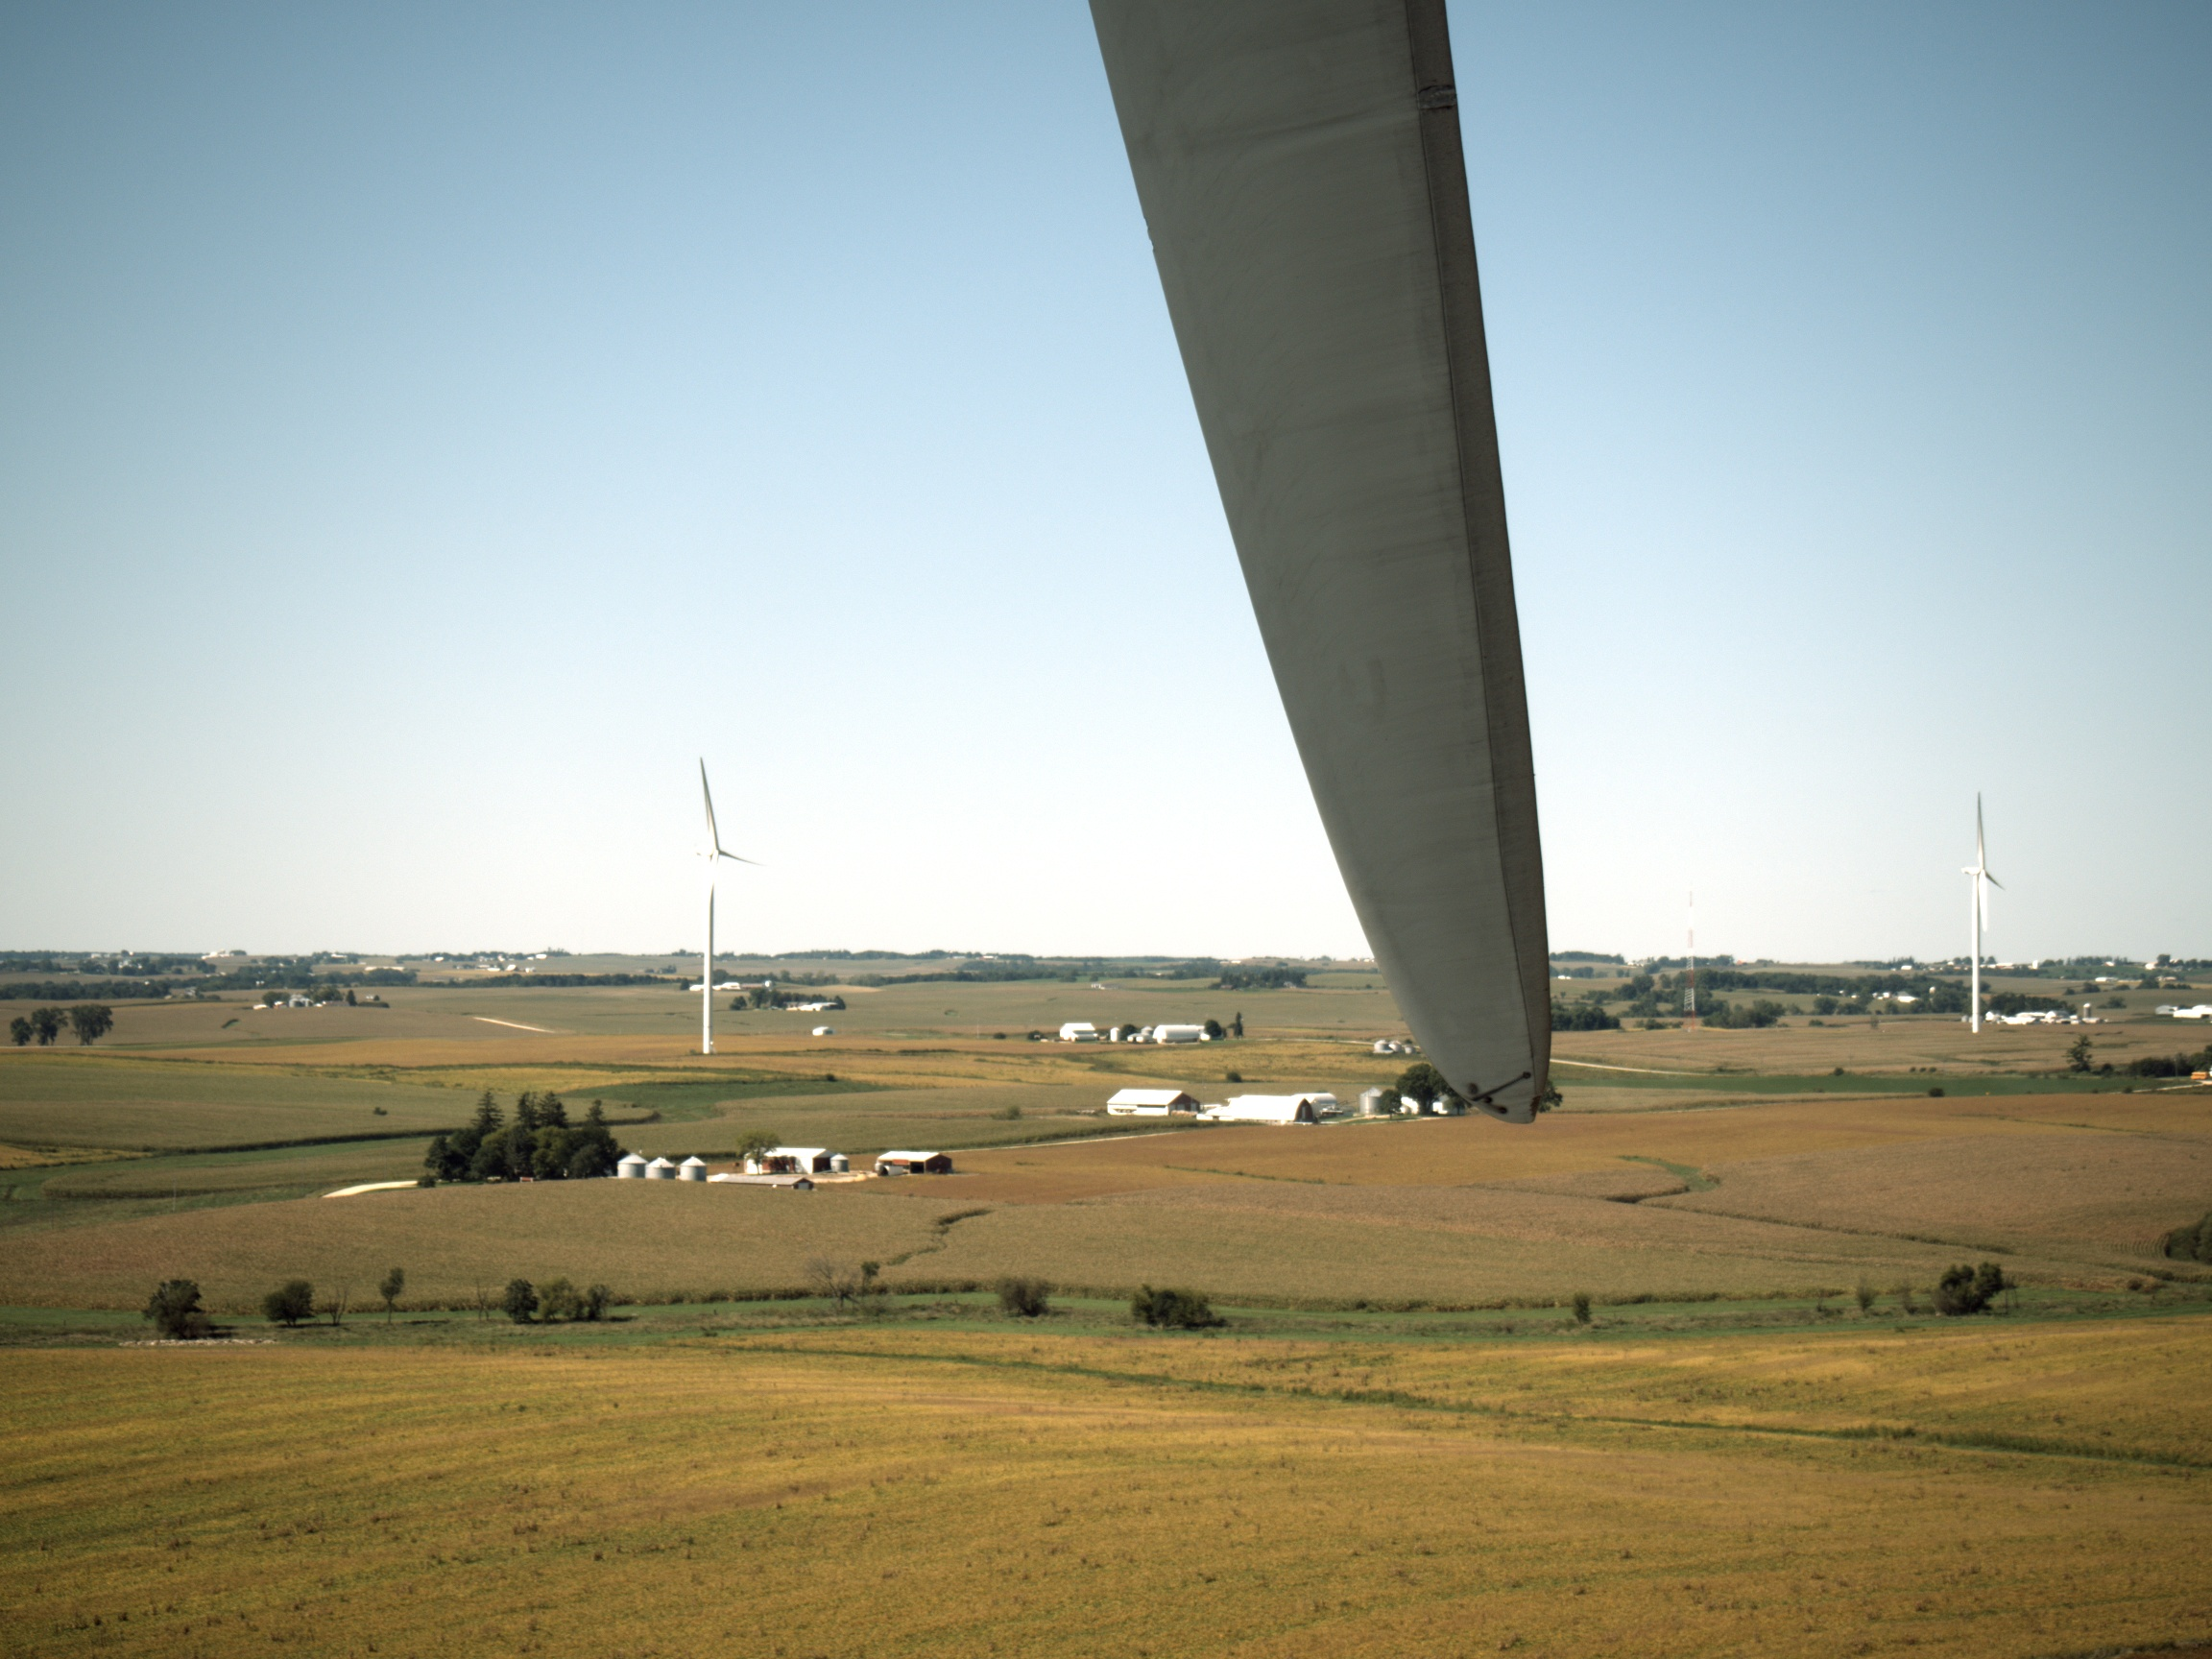american_coot: (573, 268, 977, 671)
chip: (1416, 82, 1456, 112), (1529, 1096, 1538, 1117)
wild_turkey: (1569, 296, 2005, 713)
